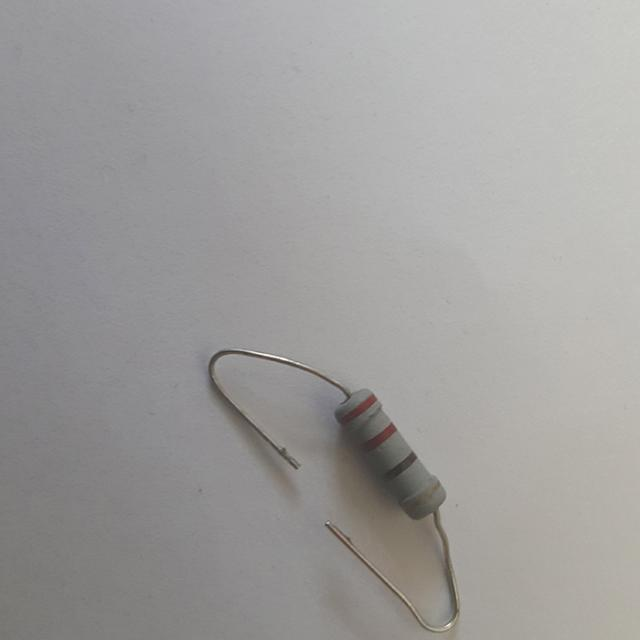brown: (379, 452, 415, 482)
gold: (402, 481, 440, 513)
red: (340, 394, 376, 424), (360, 423, 396, 453)
resistor: (311, 361, 468, 541)
